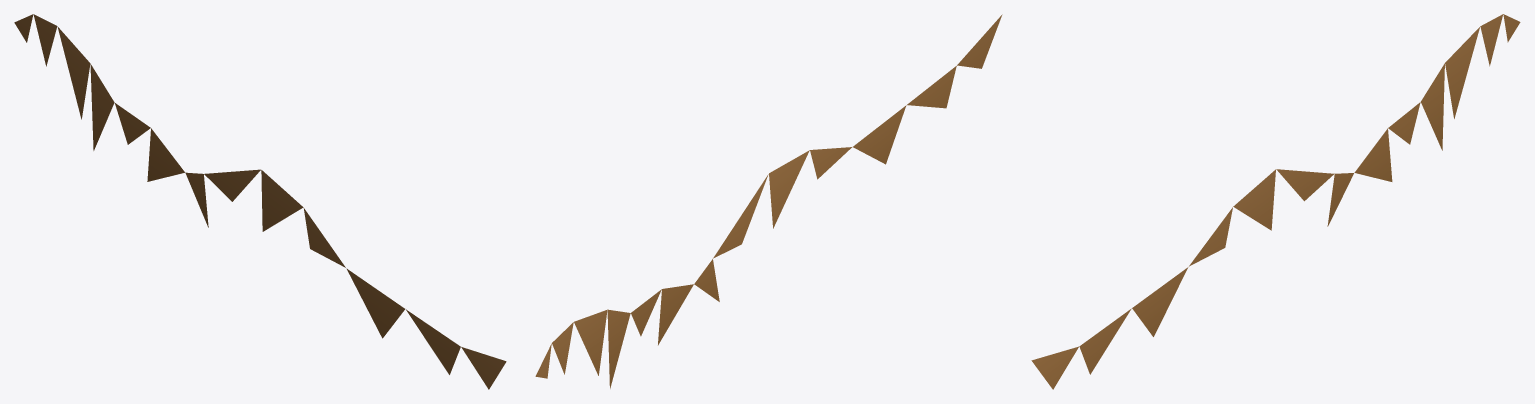
Rendered from glueTris.fbx.
3 renders of one model, left to right at view 1: azimuth 30°, elevation 25°; view 2: azimuth 150°, elevation 25°; view 3: azimuth 330°, elevation 25°, orthographic. The views are drawn at different scales.
Visible parts, largest first — view 1: glueTris; view 2: glueTris; view 3: glueTris.
Part boxes in pixels (bbox=[...]): glueTris: bbox=[14, 14, 506, 389]; glueTris: bbox=[535, 14, 1002, 388]; glueTris: bbox=[1031, 14, 1520, 389].
Size of the model in its own units: 20.95 by 582 by 4952.
